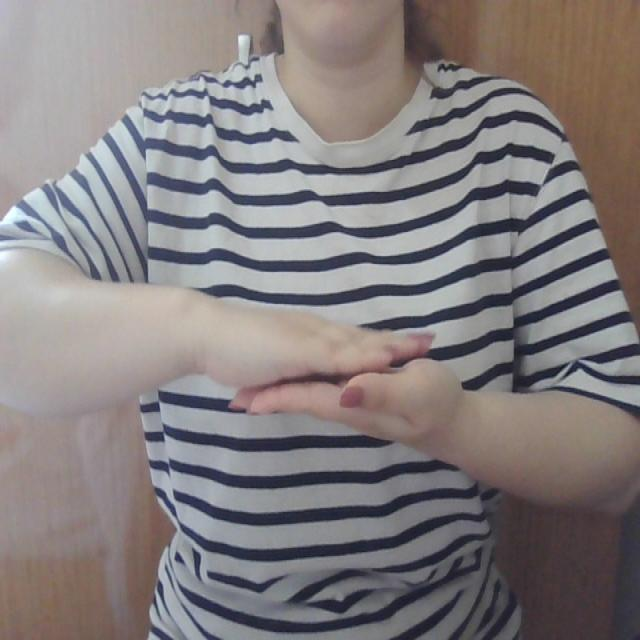Arkadas: (149, 286, 577, 445)
